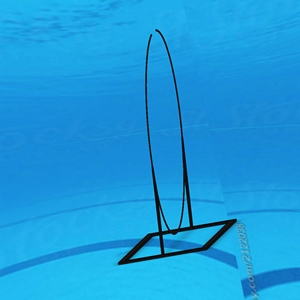circle: (118, 27, 238, 266)
